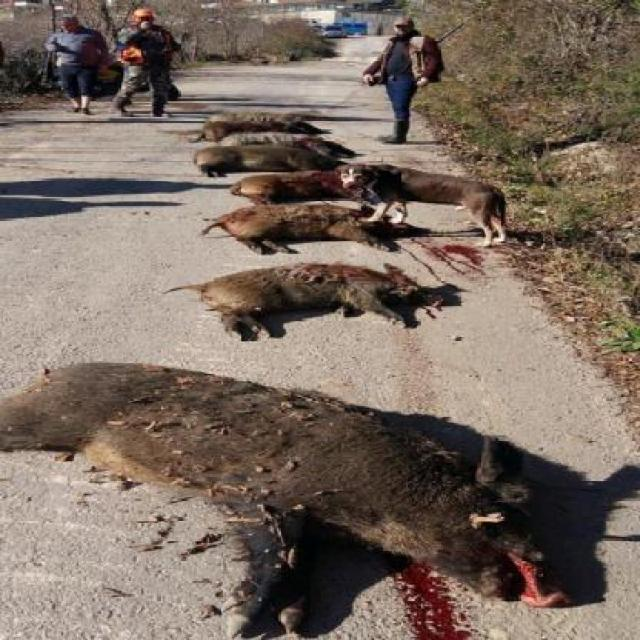wildboar: (0, 344, 601, 640), (170, 260, 435, 345), (206, 196, 394, 258), (195, 133, 354, 181), (160, 100, 334, 140), (224, 164, 364, 198)
